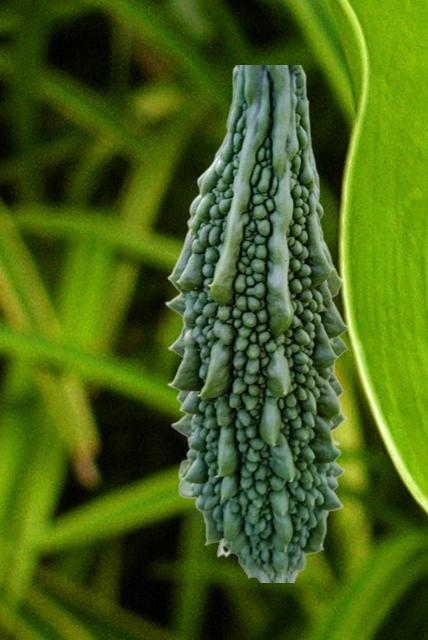ampalaya: (164, 65, 348, 581)
